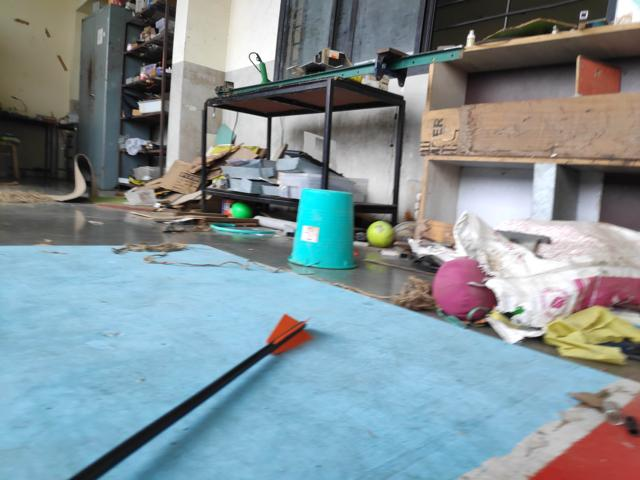Tail: (264, 308, 319, 354)
